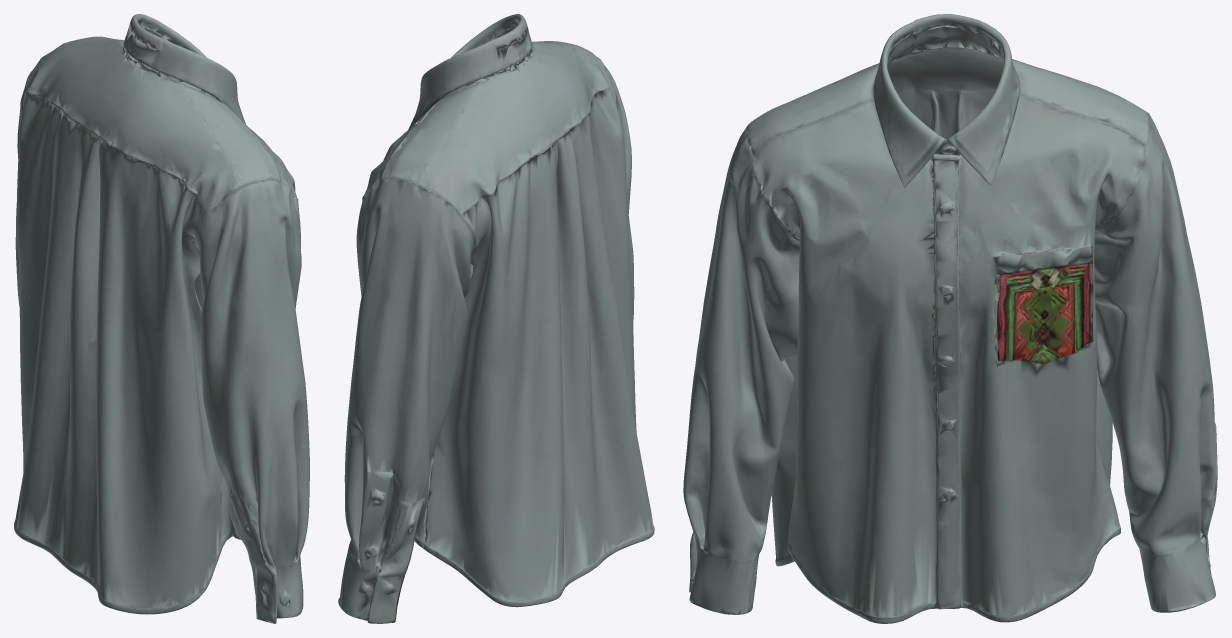
File: human.glb
The picture shows the model from 3 angles, left to right: view 1: azimuth 30°, elevation 25°; view 2: azimuth 150°, elevation 25°; view 3: azimuth 270°, elevation 25°; orthographic projection. The views are drawn at different scales.
Visible parts, largest first — view 1: tripo_node_a20585ba-eb6e-4b8e-a704-0dbe40dd913b; view 2: tripo_node_a20585ba-eb6e-4b8e-a704-0dbe40dd913b; view 3: tripo_node_a20585ba-eb6e-4b8e-a704-0dbe40dd913b.
Part boxes in pixels (<box>): tripo_node_a20585ba-eb6e-4b8e-a704-0dbe40dd913b: <box>14,14,309,623</box>; tripo_node_a20585ba-eb6e-4b8e-a704-0dbe40dd913b: <box>338,14,654,623</box>; tripo_node_a20585ba-eb6e-4b8e-a704-0dbe40dd913b: <box>683,14,1217,623</box>.
Bounding box in the file's own units: 0.3981 × 0.9794 × 0.821.
1 material, 1 textured.
